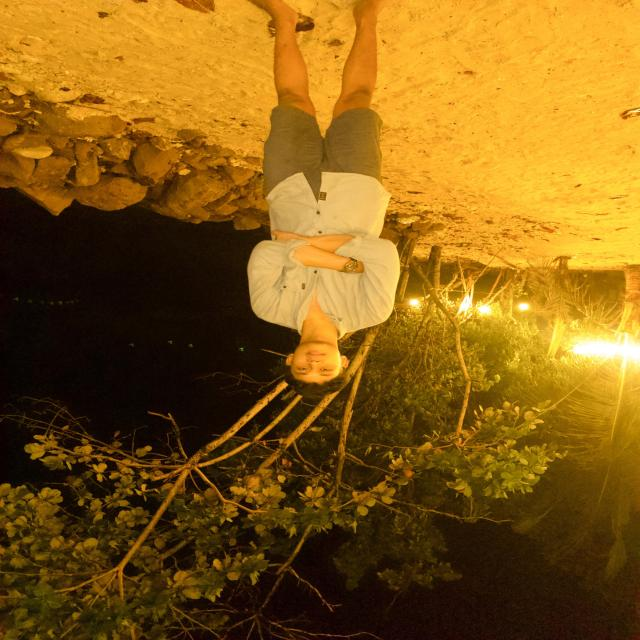nohelmet: (282, 335, 356, 402)
